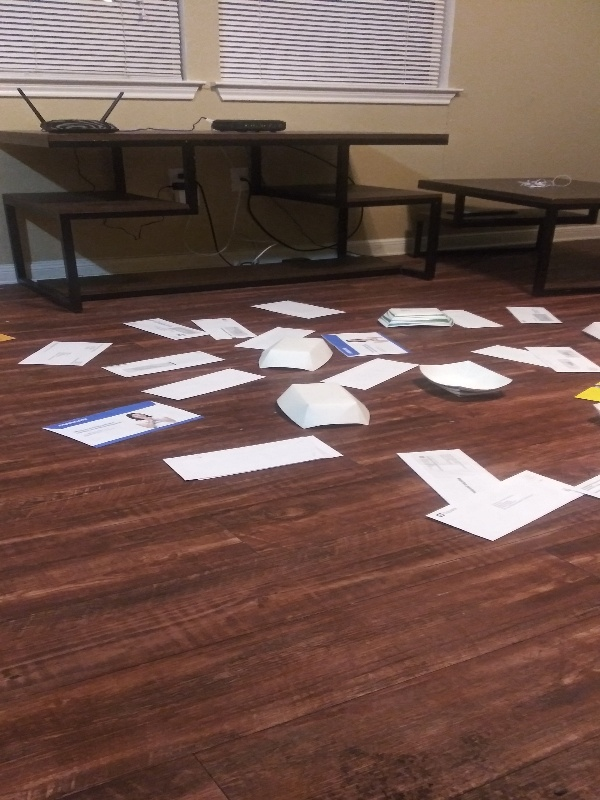plate: (274, 380, 375, 433), (413, 357, 516, 403), (258, 336, 334, 373), (377, 301, 458, 335)
